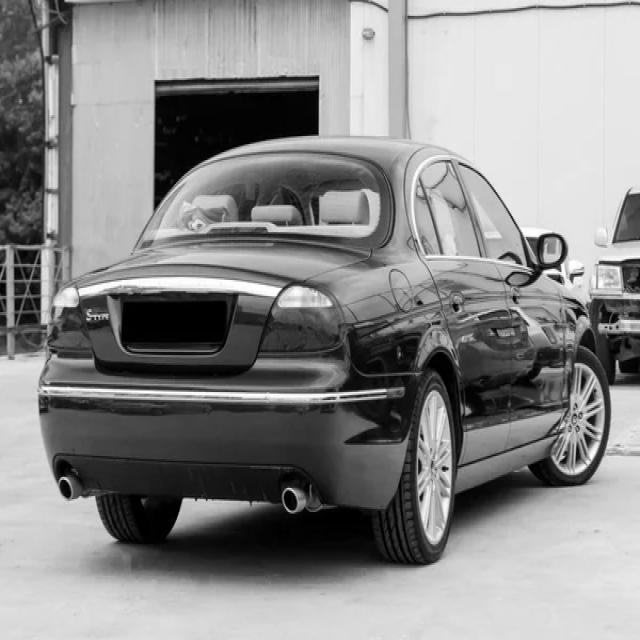Car: (38, 138, 612, 564)
